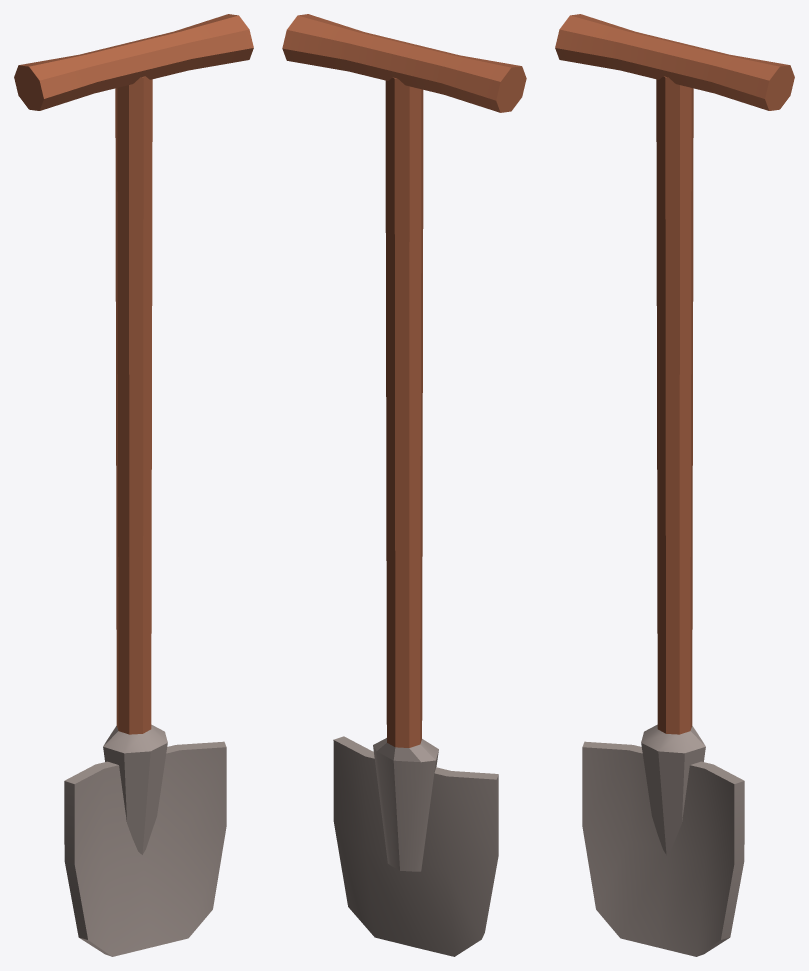
The model's file is PaGrande.fbx.
3 renders of one model, left to right at view 1: azimuth 30°, elevation 25°; view 2: azimuth 150°, elevation 25°; view 3: azimuth 330°, elevation 25°, orthographic.
Visible parts, largest first — view 1: ShovelB_LOD0; view 2: ShovelB_LOD0; view 3: ShovelB_LOD0.
Boxes of the visible parts, x1,y1,x2,y2 form: ShovelB_LOD0: (14,14,253,956); ShovelB_LOD0: (282,14,526,956); ShovelB_LOD0: (555,14,794,956).
Size of what is drawn, in the model's own units: 0.3655 by 1.49 by 0.0955.
